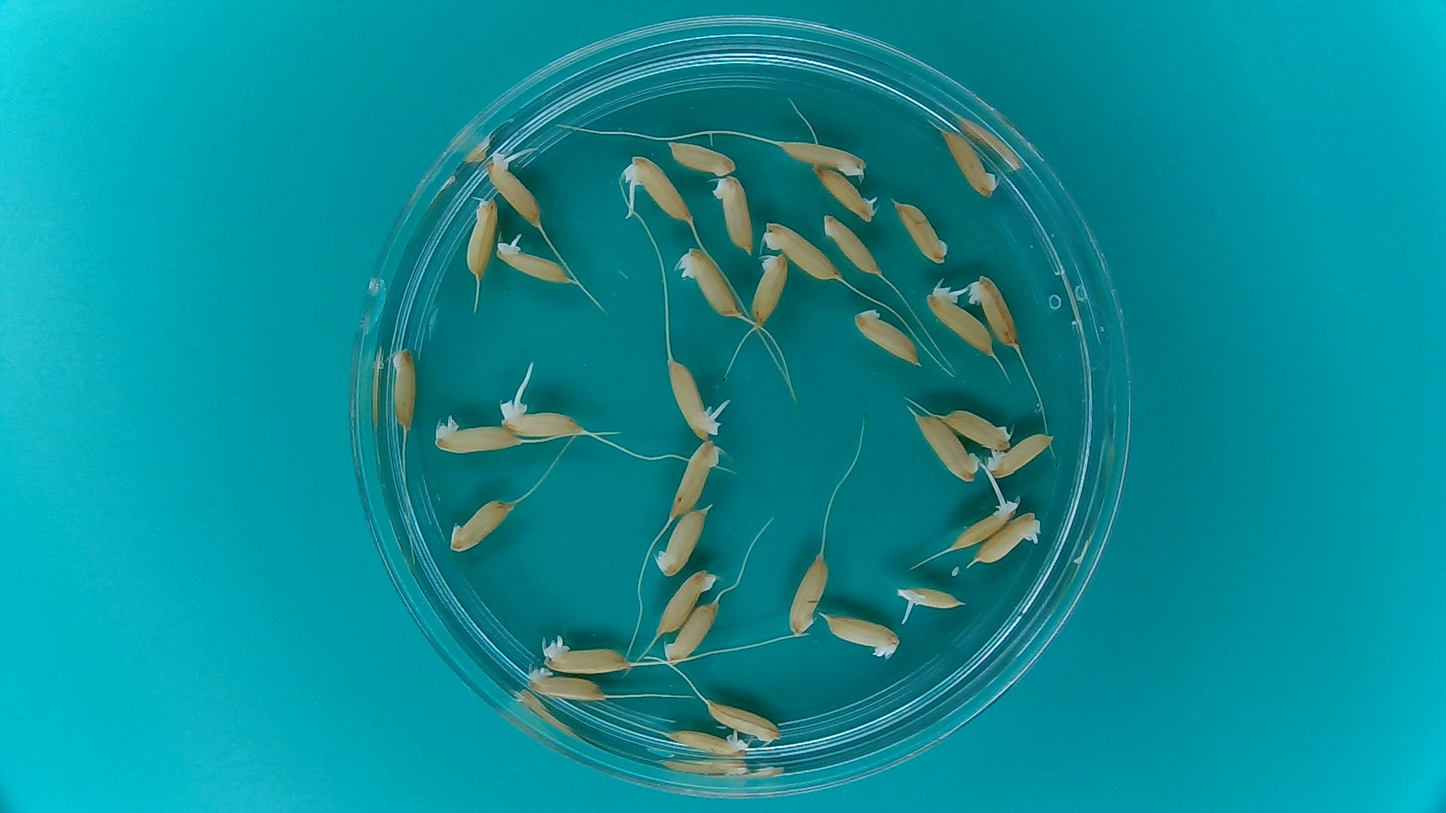no: (673, 246, 745, 319), (758, 220, 840, 282), (912, 411, 979, 485), (850, 307, 922, 368), (940, 128, 999, 200), (669, 440, 722, 520), (657, 568, 720, 635), (892, 196, 951, 266), (653, 505, 709, 578), (822, 212, 882, 279), (446, 495, 515, 553), (664, 598, 721, 666), (785, 551, 829, 638), (709, 172, 755, 254), (984, 428, 1055, 481), (779, 136, 869, 176), (967, 276, 1018, 346), (703, 698, 782, 742), (824, 613, 901, 658), (430, 419, 522, 455), (750, 250, 791, 328), (464, 193, 499, 279), (943, 408, 1014, 450), (388, 342, 419, 434), (667, 139, 740, 177), (527, 669, 608, 701)
yes: (666, 355, 728, 441), (620, 153, 694, 223), (926, 291, 996, 358), (488, 153, 544, 227), (812, 165, 877, 224), (496, 236, 572, 285), (950, 494, 1015, 550), (975, 512, 1045, 563), (542, 636, 632, 675), (496, 402, 587, 440), (665, 728, 747, 760), (892, 588, 962, 610)
